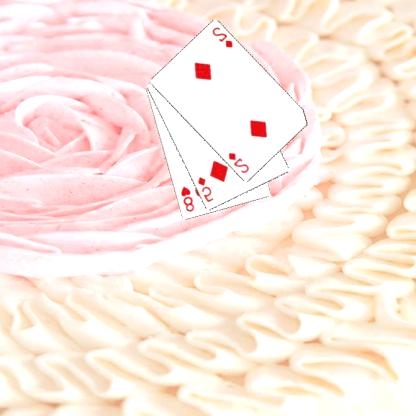2D: (227, 150, 252, 174), (211, 25, 236, 49)
5D: (197, 174, 217, 204)
8H: (180, 184, 198, 214)
